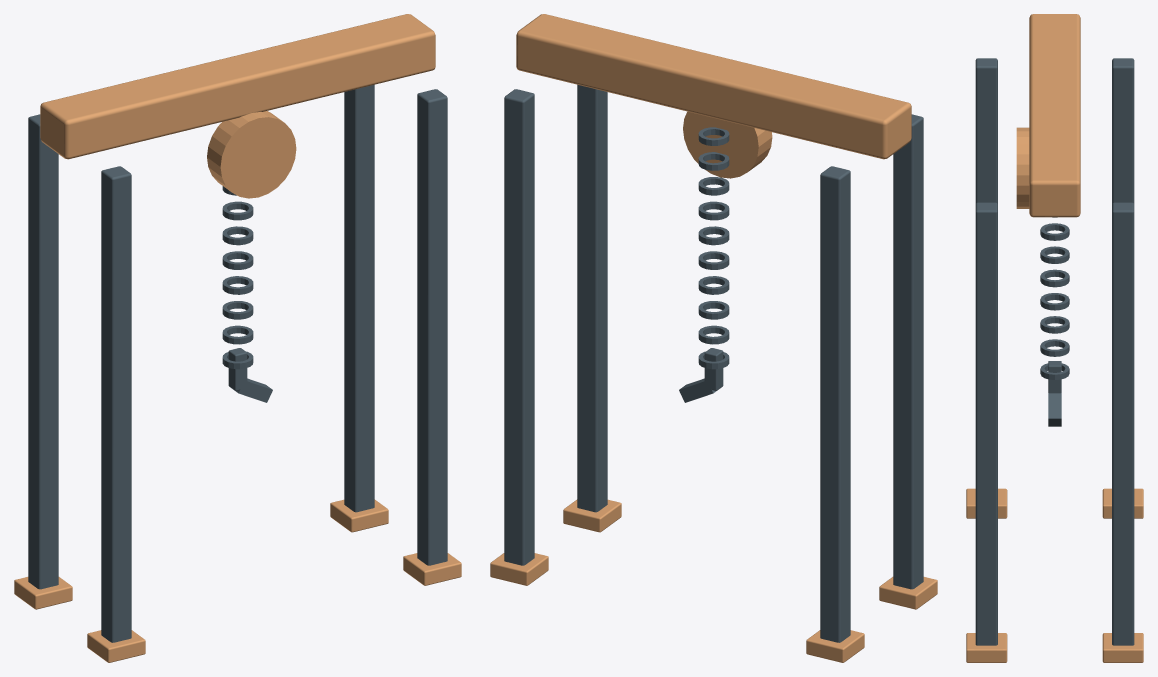
Rendered from dwarven-runeforge-dungeon-dwarven-runeforge-dungeon-ch-fa8a475e__28613.glb.
3 renders of one model, left to right at view 1: azimuth 30°, elevation 25°; view 2: azimuth 150°, elevation 25°; view 3: azimuth 270°, elevation 25°, orthographic. The views are drawn at different scales.
Visible parts, largest first — view 1: dwarven-runeforge-dungeon-chain-hoist; view 2: dwarven-runeforge-dungeon-chain-hoist; view 3: dwarven-runeforge-dungeon-chain-hoist.
Part boxes in pixels (left/top/right/bottom): dwarven-runeforge-dungeon-chain-hoist: left=14, top=14, right=461, bottom=662; dwarven-runeforge-dungeon-chain-hoist: left=490, top=14, right=937, bottom=662; dwarven-runeforge-dungeon-chain-hoist: left=966, top=14, right=1143, bottom=662.
Size of the model in its own units: 2.35 by 3.14 by 1.04.
